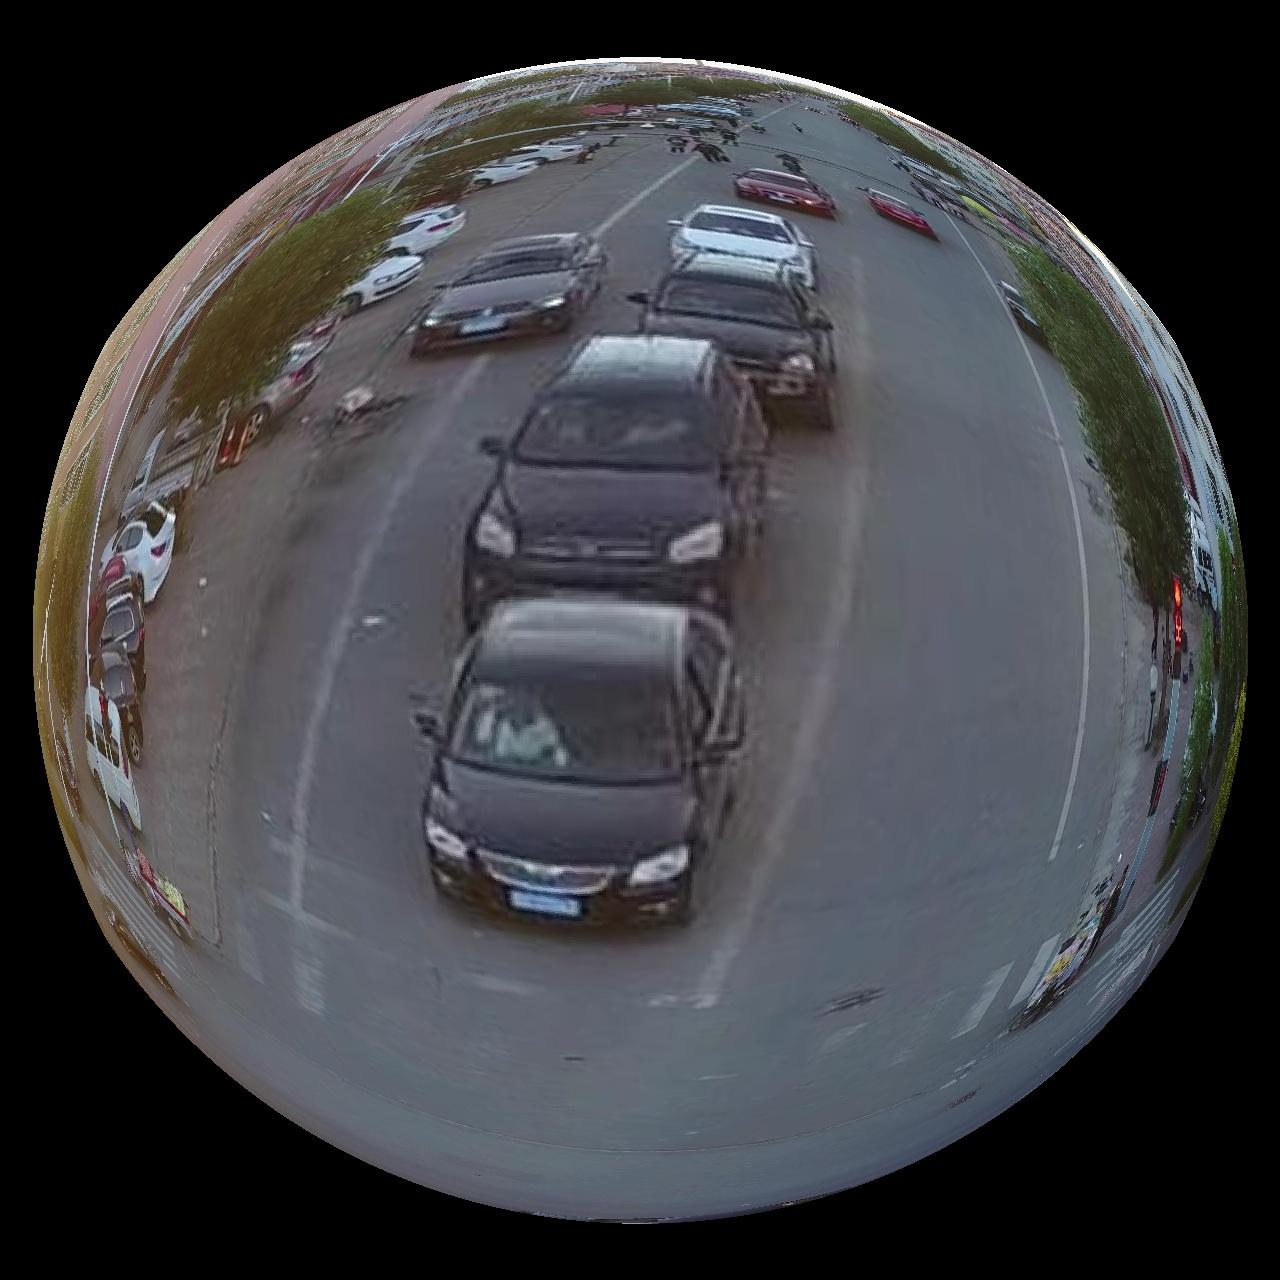cars: (423, 597, 745, 925), (463, 333, 769, 628), (631, 253, 838, 428), (411, 231, 607, 354), (669, 203, 819, 290), (83, 685, 138, 830), (98, 502, 173, 602), (735, 166, 838, 218), (341, 253, 423, 313), (384, 203, 467, 254), (862, 186, 940, 238), (999, 279, 1050, 347), (471, 154, 539, 185)
trees: (1005, 241, 1201, 679), (170, 190, 397, 396)
